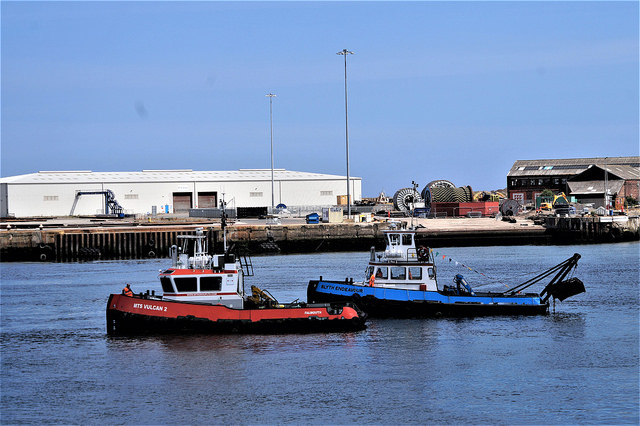tug_boat: (317, 206, 582, 332), (105, 231, 370, 341)
